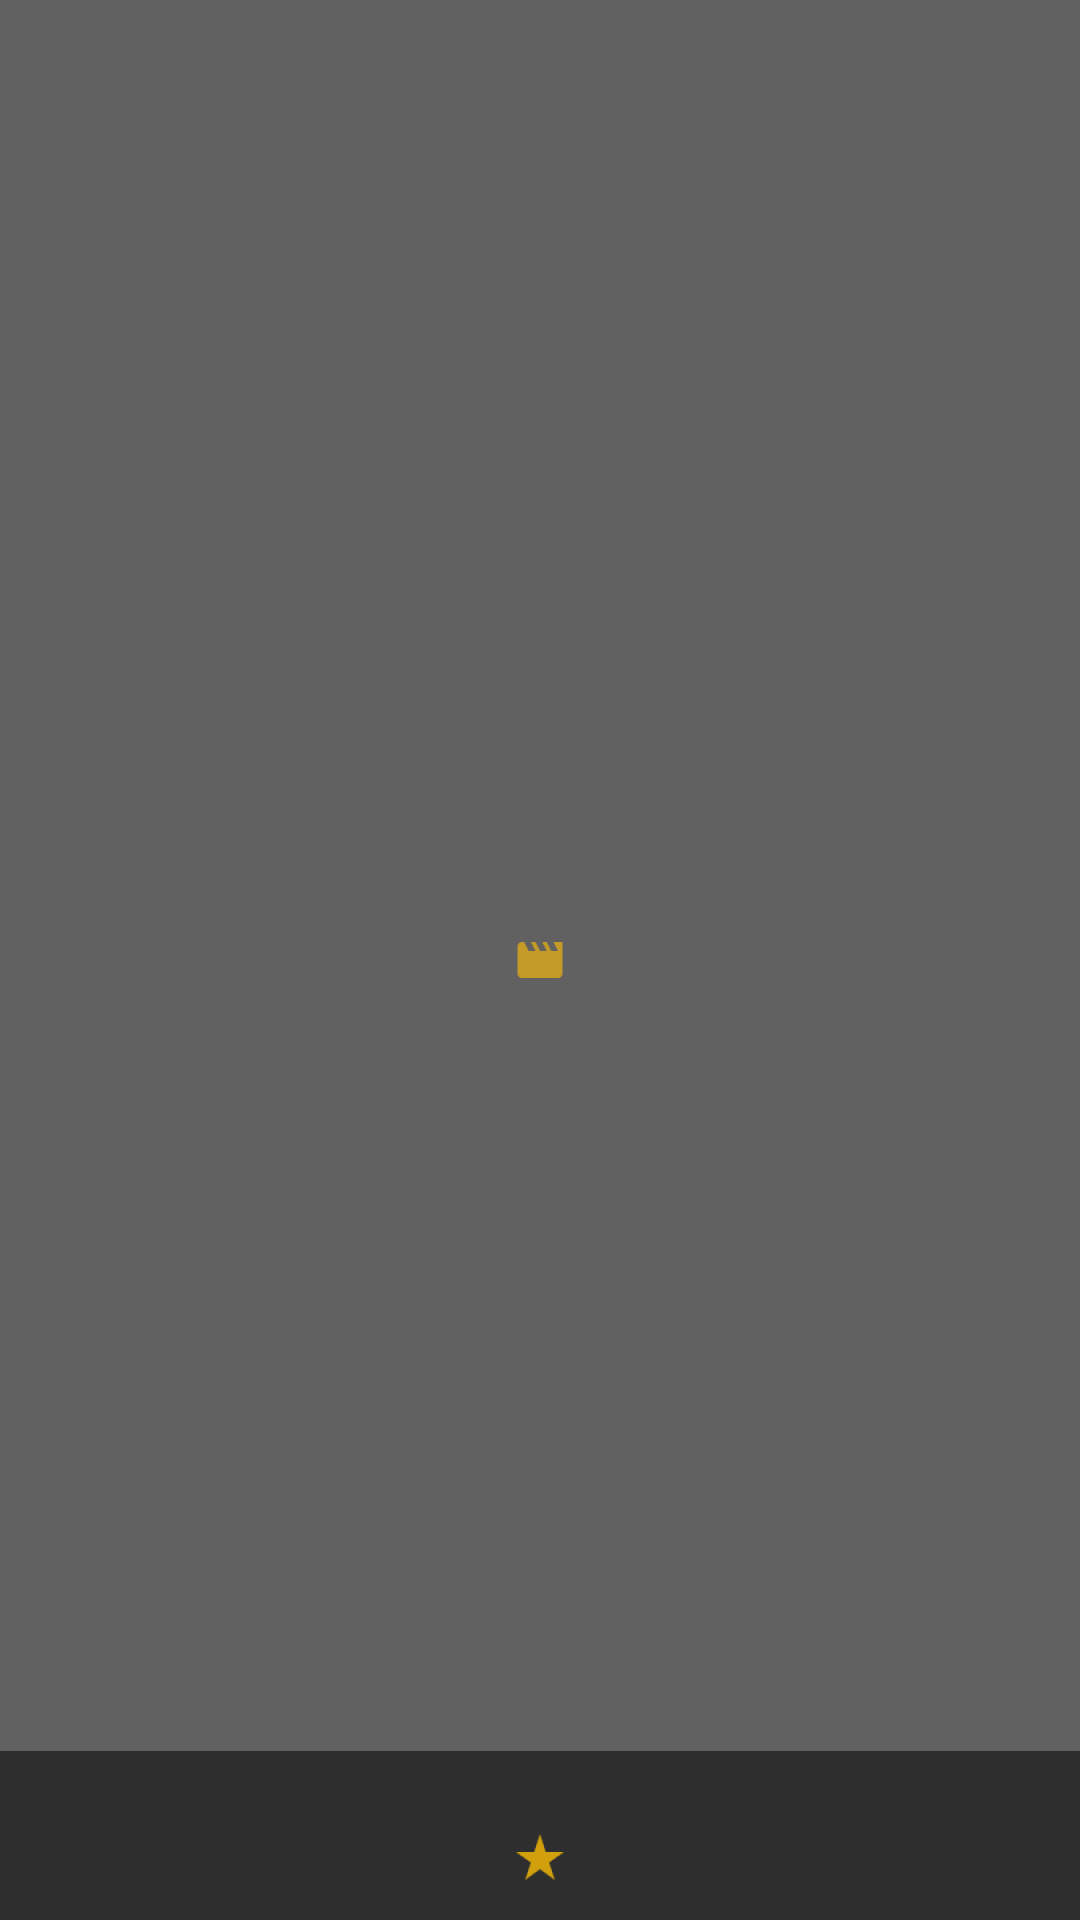

Screen size 1080w x 1920h. Icon name, then its center in pixels as point (x, y):
movie: point (540, 960)
